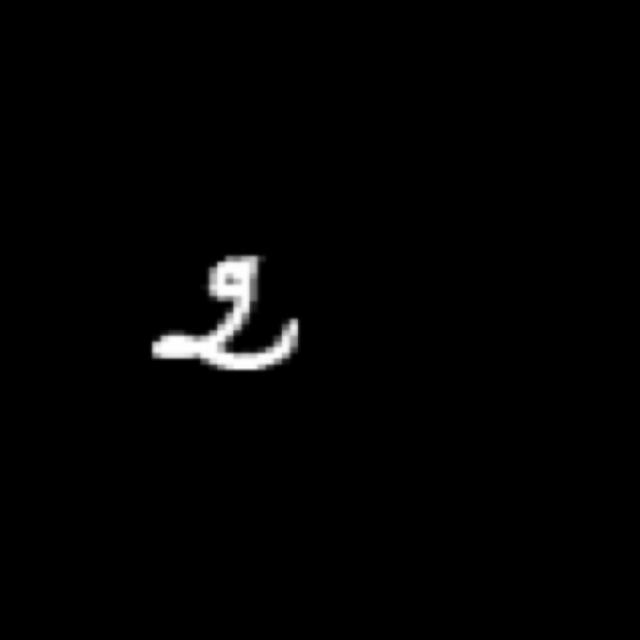two -2-: (151, 245, 319, 393)
